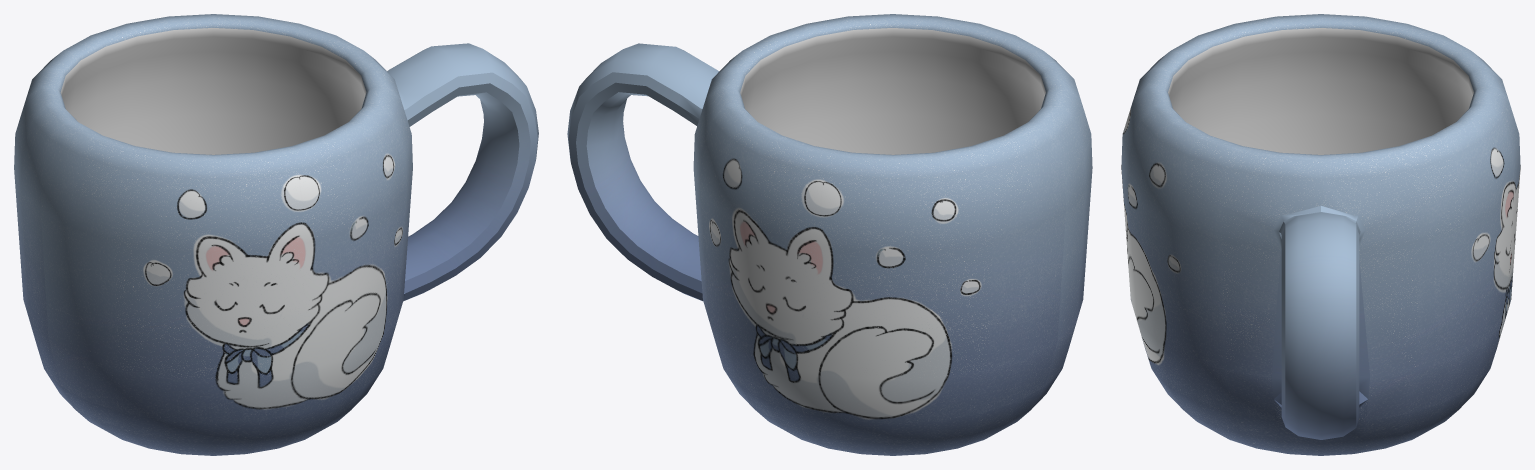
The model's file is mug.fbx.
The picture shows the model from 3 angles, left to right: view 1: azimuth 30°, elevation 25°; view 2: azimuth 150°, elevation 25°; view 3: azimuth 270°, elevation 25°; orthographic projection.
Visible parts, largest first — view 1: revolvedSurface1; view 2: revolvedSurface1; view 3: revolvedSurface1.
Boxes of the visible parts, left/top/right/bottom form: revolvedSurface1: left=14, top=14, right=538, bottom=455; revolvedSurface1: left=567, top=14, right=1092, bottom=455; revolvedSurface1: left=1121, top=14, right=1520, bottom=455.
Bounding box in the file's own units: 15.11 × 9.53 × 10.66.
